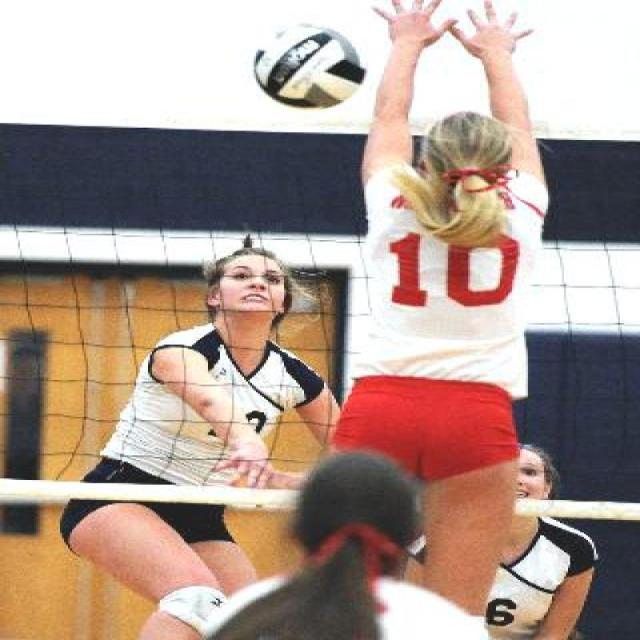volleyball: (248, 23, 364, 109)
